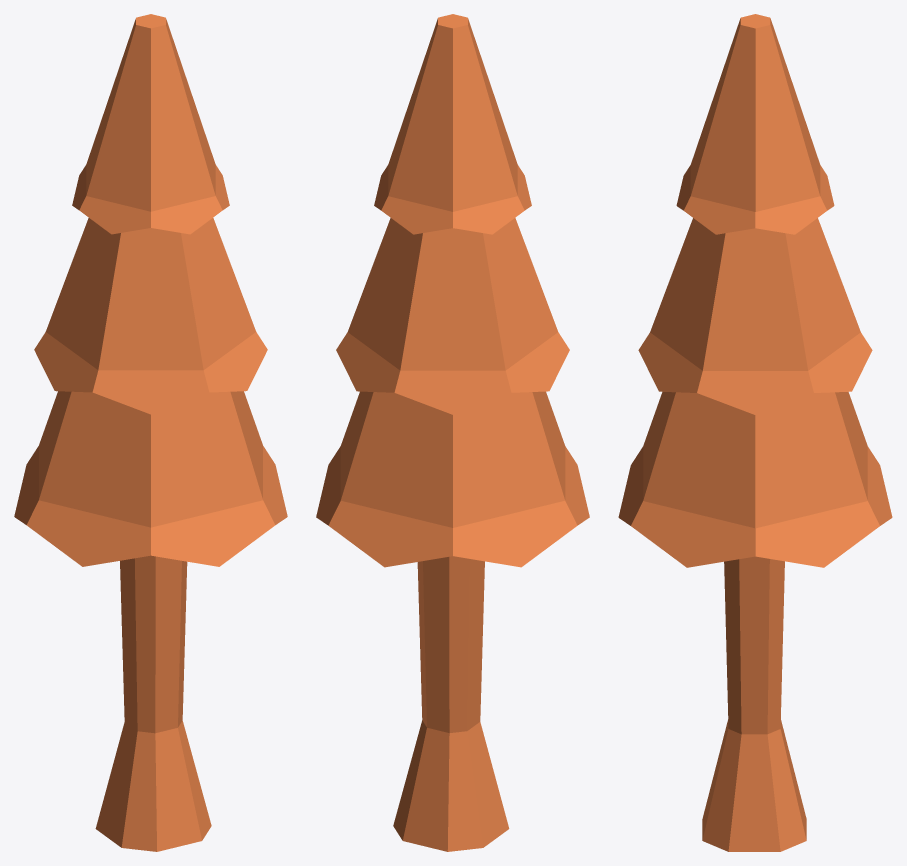
Rendered from tree-autumn-tall.obj.
3 views of the same model, side by side, from view 1: azimuth 30°, elevation 25°; view 2: azimuth 150°, elevation 25°; view 3: azimuth 270°, elevation 25° (orthographic).
Size of the model in its own units: 0.5529 by 1.71 by 0.5262.
